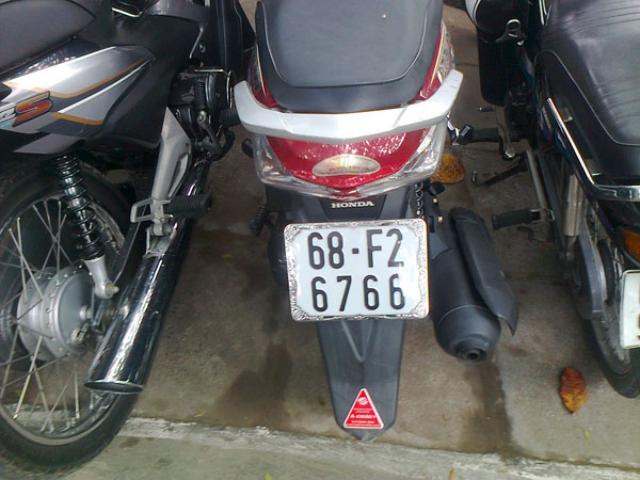plate: (281, 220, 441, 322)
